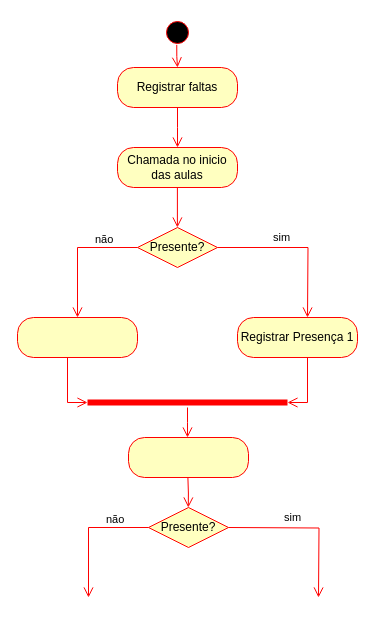
Image size: 375x625. Some labels were removed from this diagram. Each missing label, with the centre of its shape:
Chamada após o intervalo: [188,457]
Registrar Falta: [77,337]
